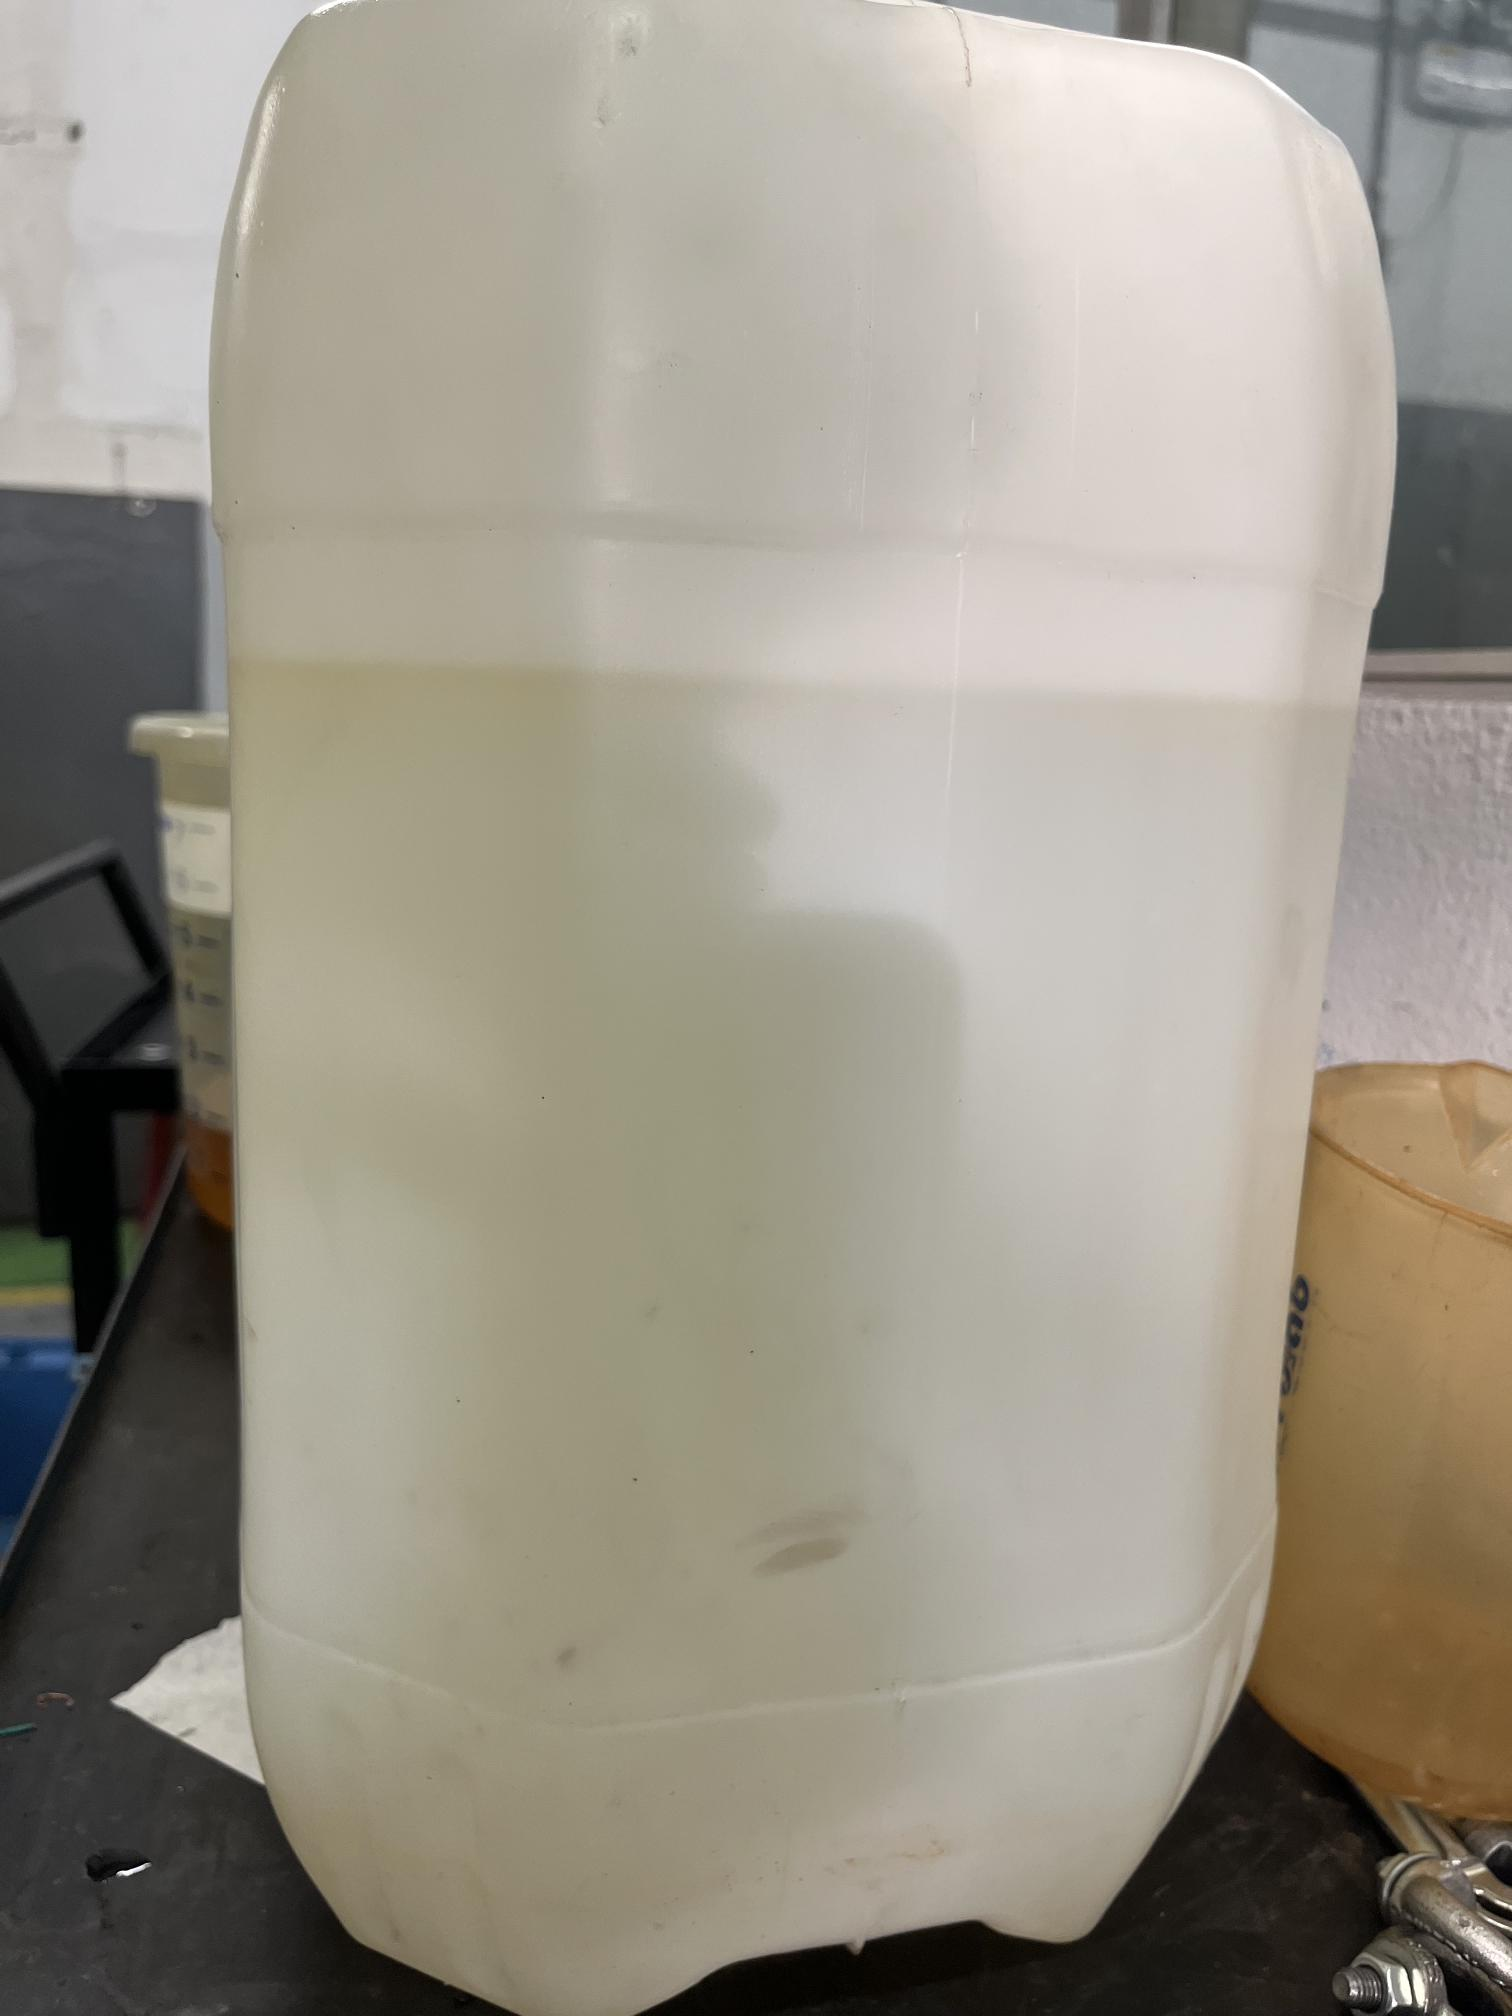Galao: (179, 30, 1390, 1935)
